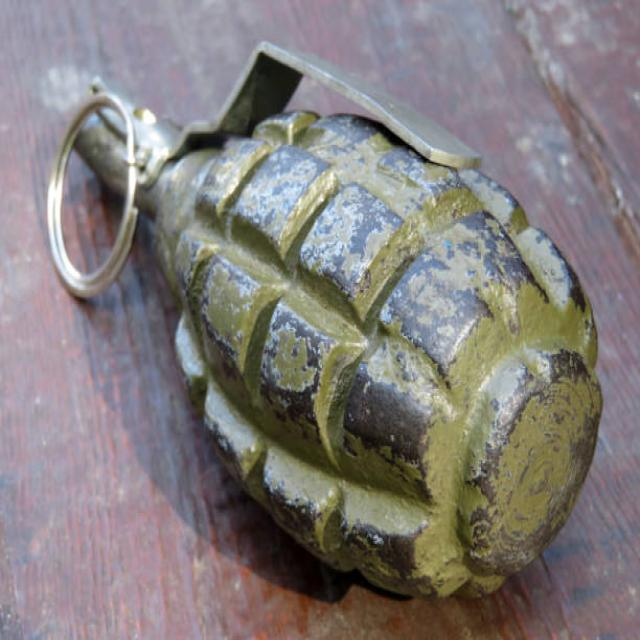grenade: (41, 34, 608, 608)
